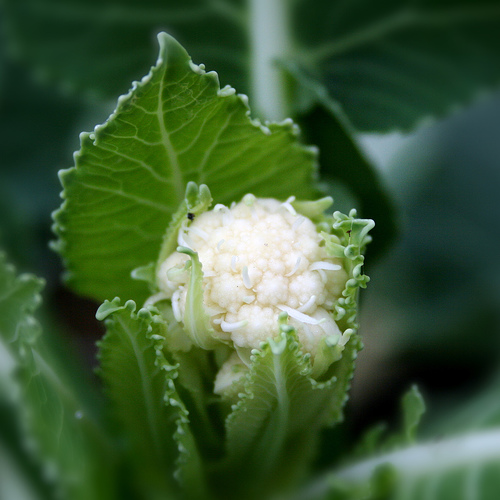cauliflower: (156, 191, 340, 350)
